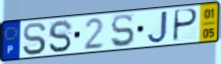2: (83, 16, 106, 51)
J: (146, 10, 170, 45)
P: (171, 8, 199, 43)
S: (22, 21, 49, 57), (47, 19, 74, 54), (110, 13, 136, 49)
